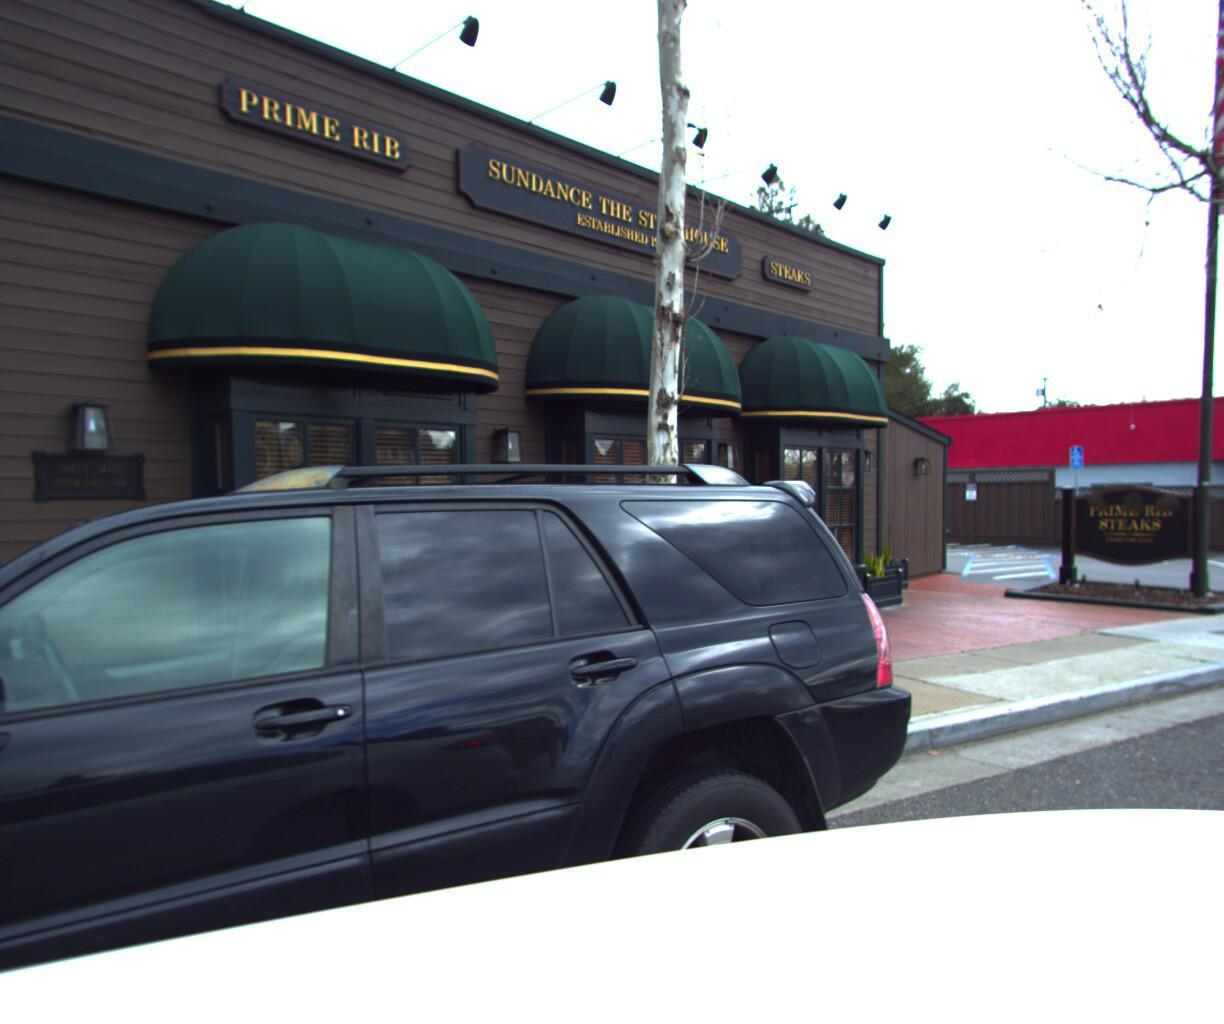car: (0, 406, 985, 1024)
